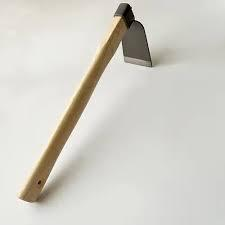HOUE: (19, 4, 208, 217)
